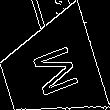M_W: (22, 40, 79, 100)
